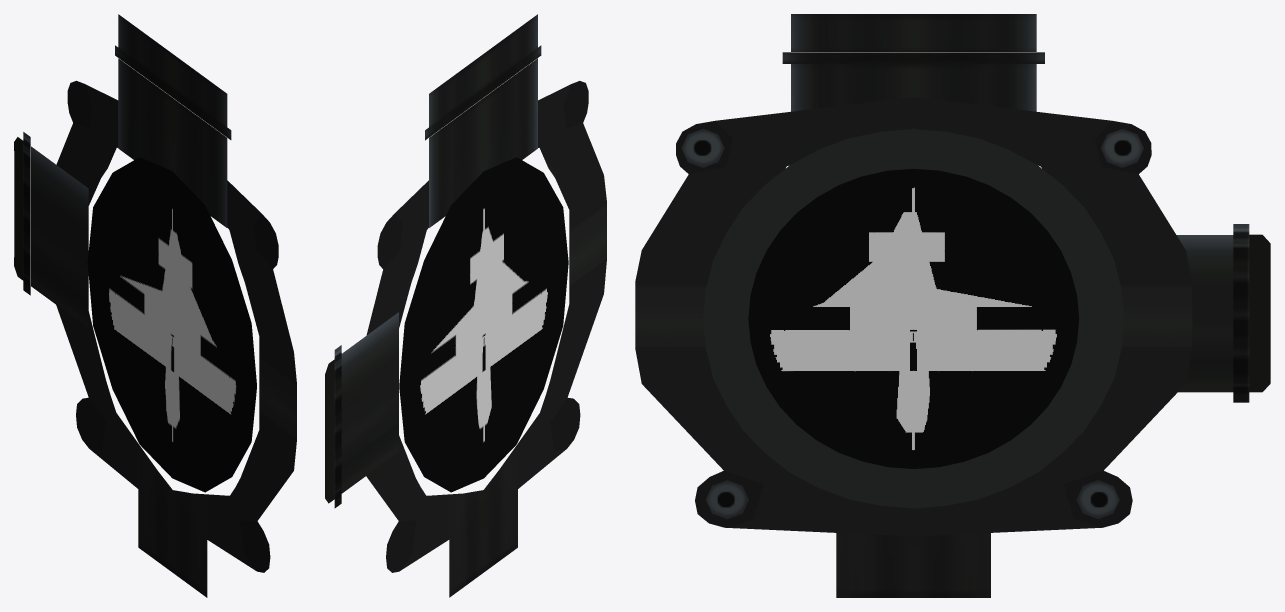
The model's file is Scopes_4xACOG_Base_2_Mod_1.FBX.
3 renders of one model, left to right at view 1: azimuth 30°, elevation 25°; view 2: azimuth 150°, elevation 25°; view 3: azimuth 270°, elevation 25°, orthographic. The views are drawn at different scales.
Parts seen in each view (by area): view 1: Scopes_4xACOG_Base_2_Mod_1, Lens_4xACOG_Base_2_Mod_1; view 2: Scopes_4xACOG_Base_2_Mod_1, Lens_4xACOG_Base_2_Mod_1; view 3: Scopes_4xACOG_Base_2_Mod_1, Lens_4xACOG_Base_2_Mod_1.
Boxes of the visible parts, x1,y1,x2,y2 form: Scopes_4xACOG_Base_2_Mod_1: (14, 14, 296, 597); Lens_4xACOG_Base_2_Mod_1: (87, 157, 256, 492); Scopes_4xACOG_Base_2_Mod_1: (325, 14, 606, 597); Lens_4xACOG_Base_2_Mod_1: (399, 157, 568, 492); Scopes_4xACOG_Base_2_Mod_1: (635, 14, 1270, 597); Lens_4xACOG_Base_2_Mod_1: (748, 168, 1079, 468).
Size of the model in its own units: 0.022 by 8.86 by 8.73.
